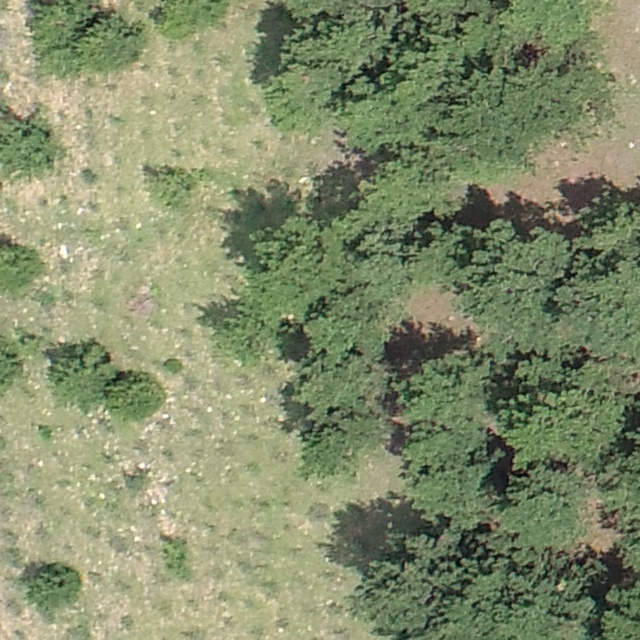unhealthy: (128, 291, 155, 314)
